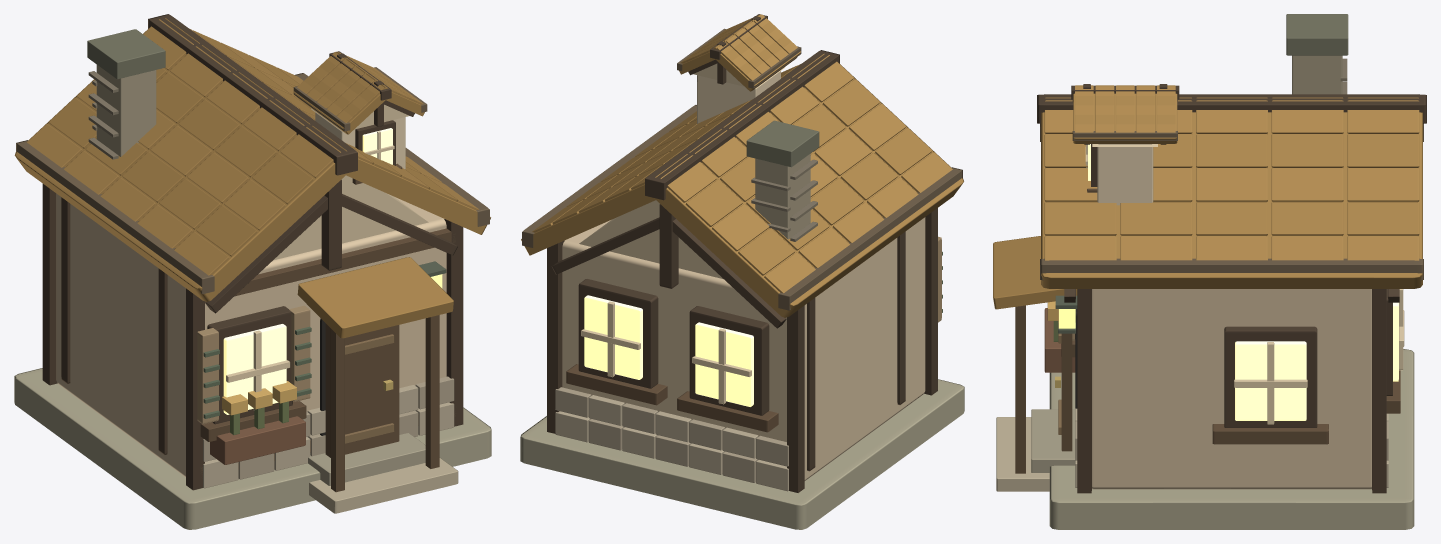
Rendered from house-3.glb.
3 renders of one model, left to right at view 1: azimuth 30°, elevation 25°; view 2: azimuth 150°, elevation 25°; view 3: azimuth 270°, elevation 25°, orthographic. The views are drawn at different scales.
Parts seen in each view (by area): view 1: house-3-0, door-hinge; view 2: house-3-0; view 3: house-3-0, door-hinge.
Boxes of the visible parts, box(x1,y1,x2,y2) form: house-3-0: box(14, 14, 491, 529); door-hinge: box(325, 324, 399, 457); house-3-0: box(520, 14, 964, 529); house-3-0: box(993, 14, 1426, 529); door-hinge: box(1055, 309, 1072, 451).
Size of the model in its own units: 1.88 by 2.25 by 2.24.
